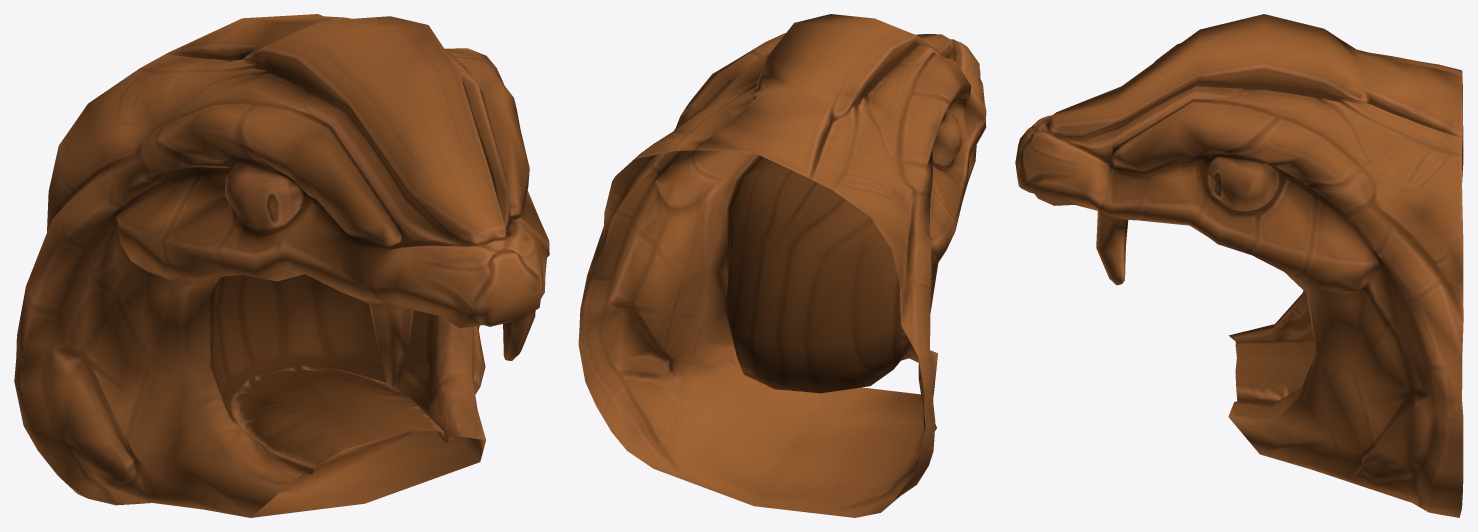
Rendered from snake 1.fbx.
3 renders of one model, left to right at view 1: azimuth 30°, elevation 25°; view 2: azimuth 150°, elevation 25°; view 3: azimuth 270°, elevation 25°, orthographic. The views are drawn at different scales.
Visible parts, largest first — view 1: snake; view 2: snake; view 3: snake.
Boxes of the visible parts, box(x1,y1,x2,y2) form: snake: box(14, 14, 549, 517); snake: box(578, 14, 986, 517); snake: box(1015, 14, 1463, 517).
Size of the model in its own units: 4274 by 4366 by 4814.
